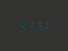four: (18, 20, 25, 31), (26, 20, 33, 31)
nine: (34, 19, 41, 30)
one: (42, 19, 49, 30)
